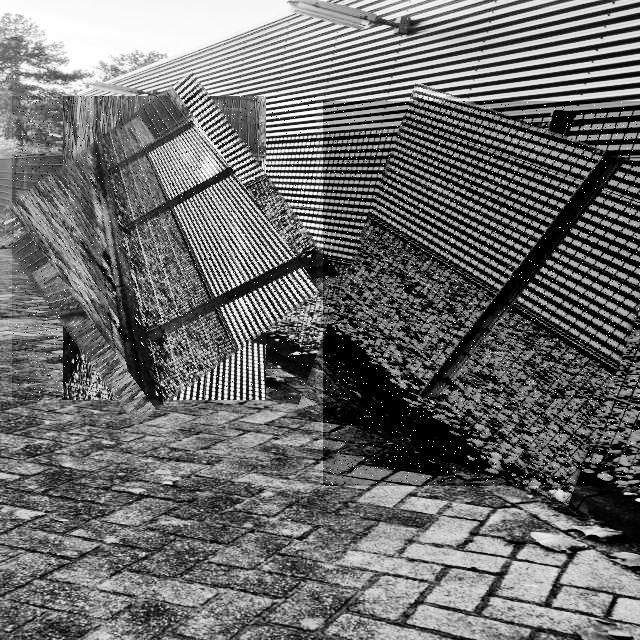fences: (323, 101, 640, 486), (12, 96, 316, 400)
